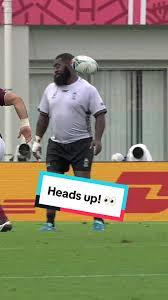ballon_rugby: (71, 54, 102, 76)
